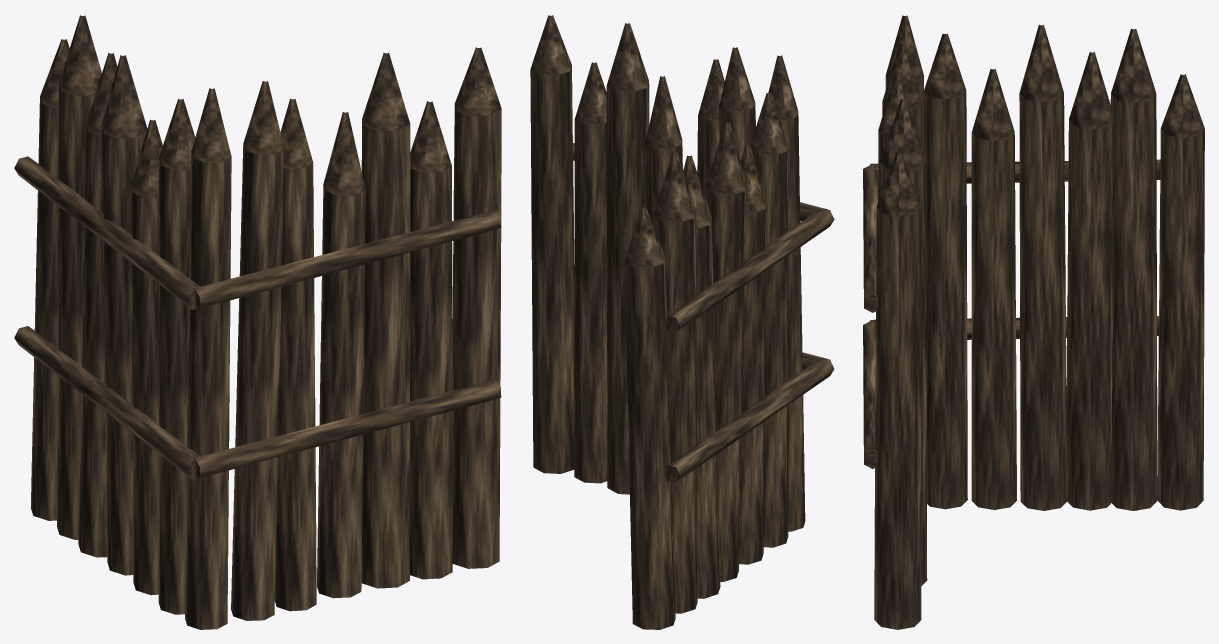
Rendered from palizzata_angolo.gltf.
The picture shows the model from 3 angles, left to right: view 1: azimuth 30°, elevation 25°; view 2: azimuth 150°, elevation 25°; view 3: azimuth 270°, elevation 25°; orthographic projection. The views are drawn at different scales.
Parts seen in each view (by area): view 1: palizzata_angolo; view 2: palizzata_angolo; view 3: palizzata_angolo.
Part boxes in pixels (left/top/right/bottom): palizzata_angolo: left=14, top=15, right=501, bottom=629; palizzata_angolo: left=530, top=15, right=834, bottom=629; palizzata_angolo: left=863, top=15, right=1204, bottom=629.
Bounding box in the file's own units: 1.74 × 2.69 × 1.71.
1 material, 1 textured.
